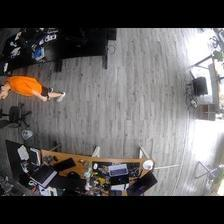normal: (1, 75, 65, 104)
